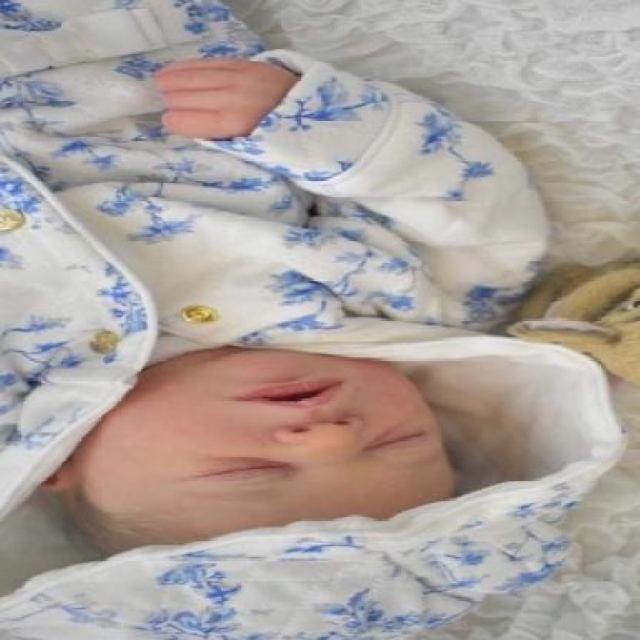baby: (0, 0, 551, 569)
